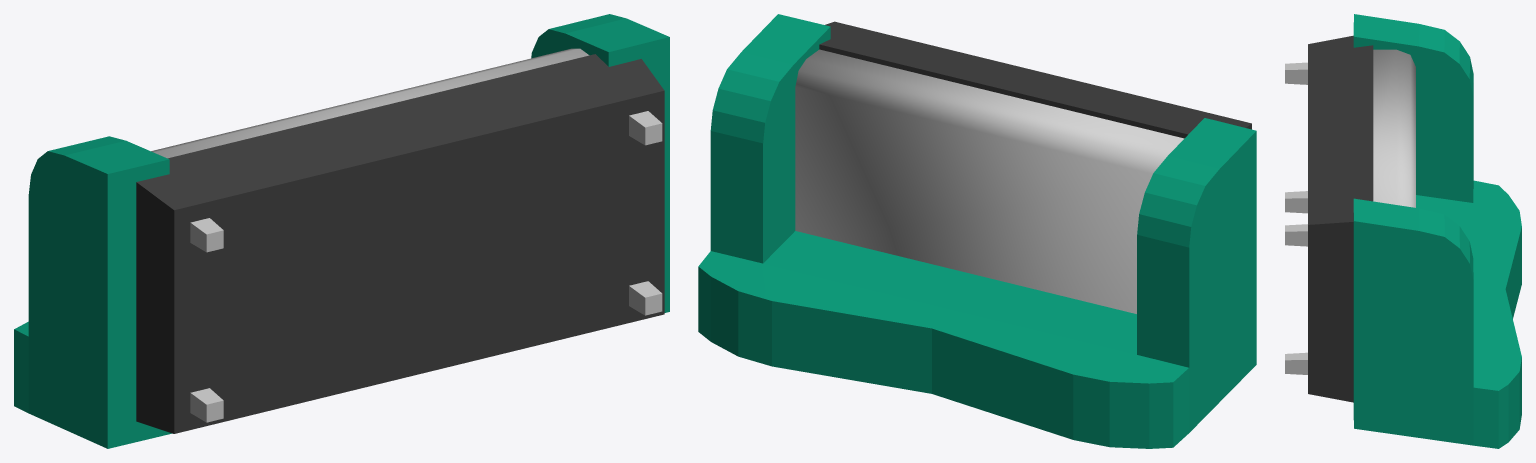
Rendered from Sofa_1.glb.
The picture shows the model from 3 angles, left to right: view 1: azimuth 30°, elevation 25°; view 2: azimuth 150°, elevation 25°; view 3: azimuth 270°, elevation 25°; orthographic projection. The views are drawn at different scales.
Parts seen in each view (by area): view 1: Sofa 1; view 2: Sofa 1; view 3: Sofa 1.
Boxes of the visible parts, left/top/right/bottom form: Sofa 1: left=14, top=14, right=669, bottom=448; Sofa 1: left=698, top=14, right=1256, bottom=448; Sofa 1: left=1285, top=14, right=1521, bottom=448.
Size of the model in its own units: 1.79 by 0.9366 by 0.8665.
1 material, 1 textured.
